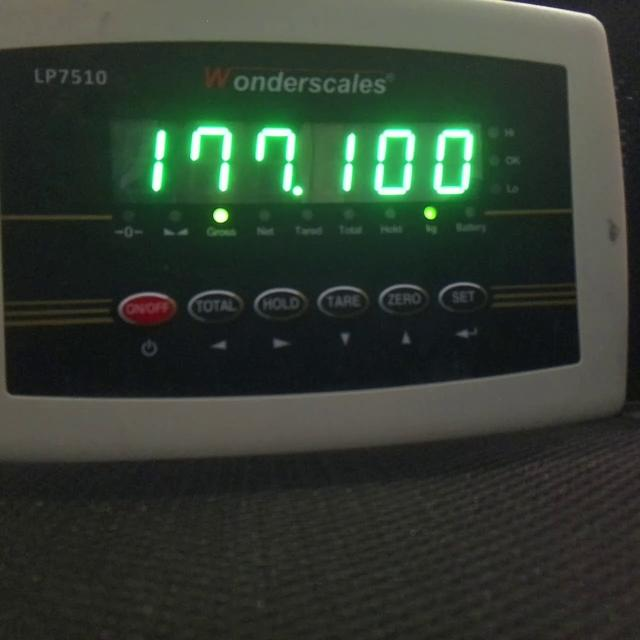.: (292, 185, 304, 196)
0: (374, 128, 416, 195), (433, 128, 474, 194)
1: (150, 129, 167, 192), (342, 132, 356, 192)
7: (189, 117, 233, 200), (255, 126, 298, 194)
